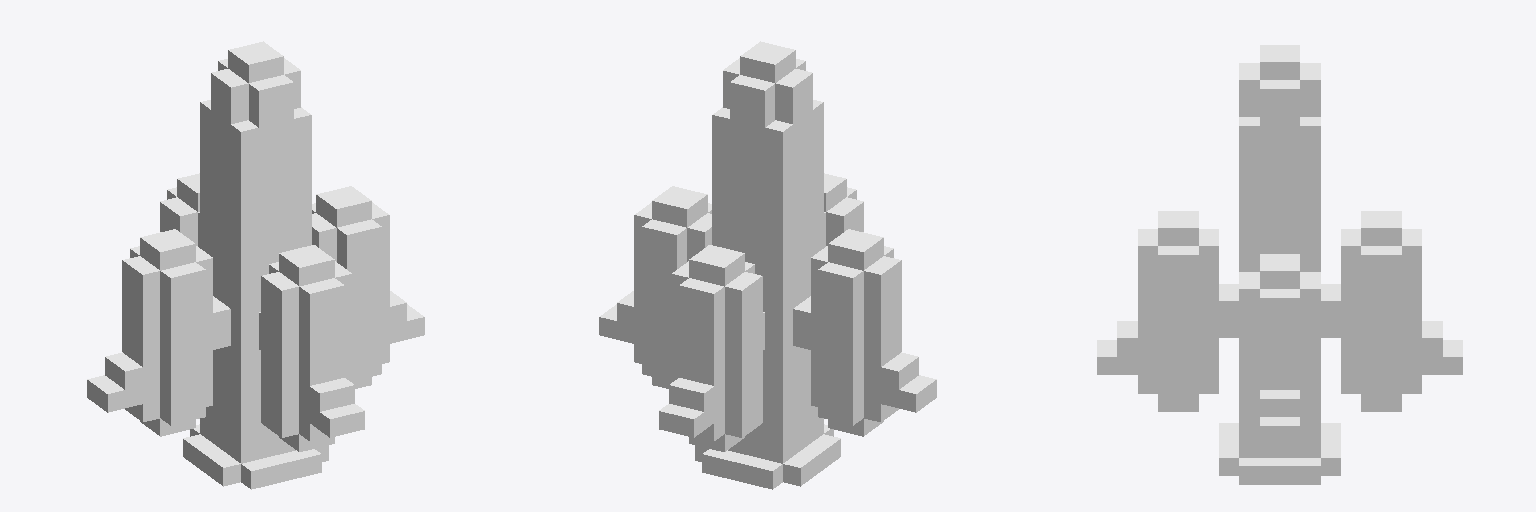
File: rocket2.obj
3 views of the same model, side by side, from view 1: azimuth 30°, elevation 25°; view 2: azimuth 150°, elevation 25°; view 3: azimuth 270°, elevation 25° (orthographic).
Bounding box in the file's own units: 18 × 22 × 18.